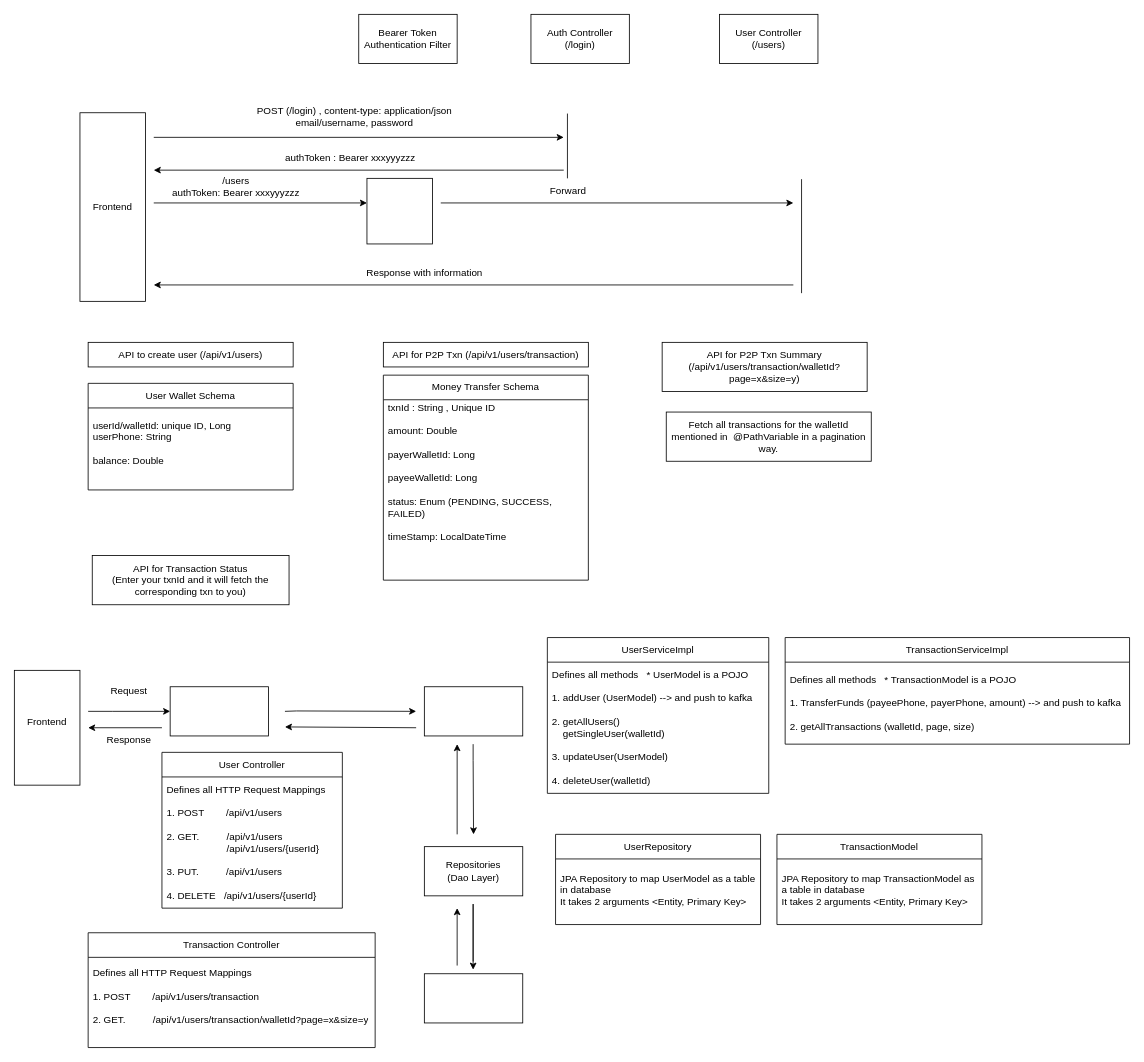
Some shapes in this 1144 by 1062 pixel diagram are drawn without their labels. The shapes that lost their labels are listed below. From the top down, each one's centre as x and y in pixels, then its label:
At point (399, 211): "Check validity and role based authorization".
At point (219, 711): "Controller (Presentation Layer)".
At point (473, 711): "Service Layer (Business logic)".
At point (473, 998): "Database (MySql)".
